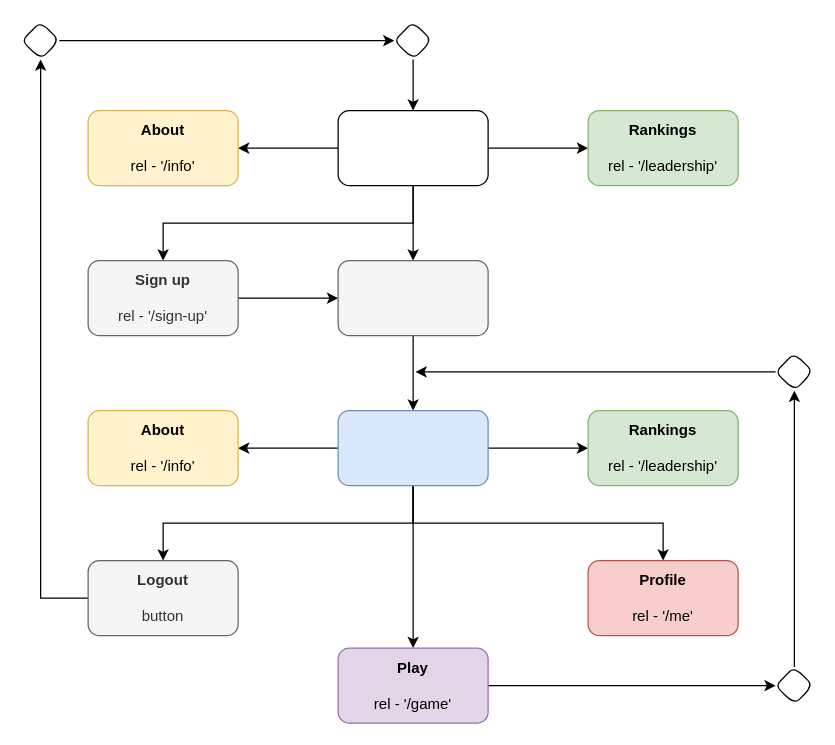
Image size: 835x745. Some labels were removed from this diagram. The centre of each missing label's shape, as x and y in pixels:
Home rel - '/': (x=412, y=147)
Sign In rel - '/sign-in': (x=412, y=297)
User Home rel - '/': (x=412, y=447)
